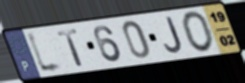0: (121, 19, 153, 61)
6: (93, 25, 124, 63)
J: (162, 15, 185, 55)
L: (24, 29, 68, 76)
O: (180, 10, 216, 54)
T: (55, 28, 86, 68)
